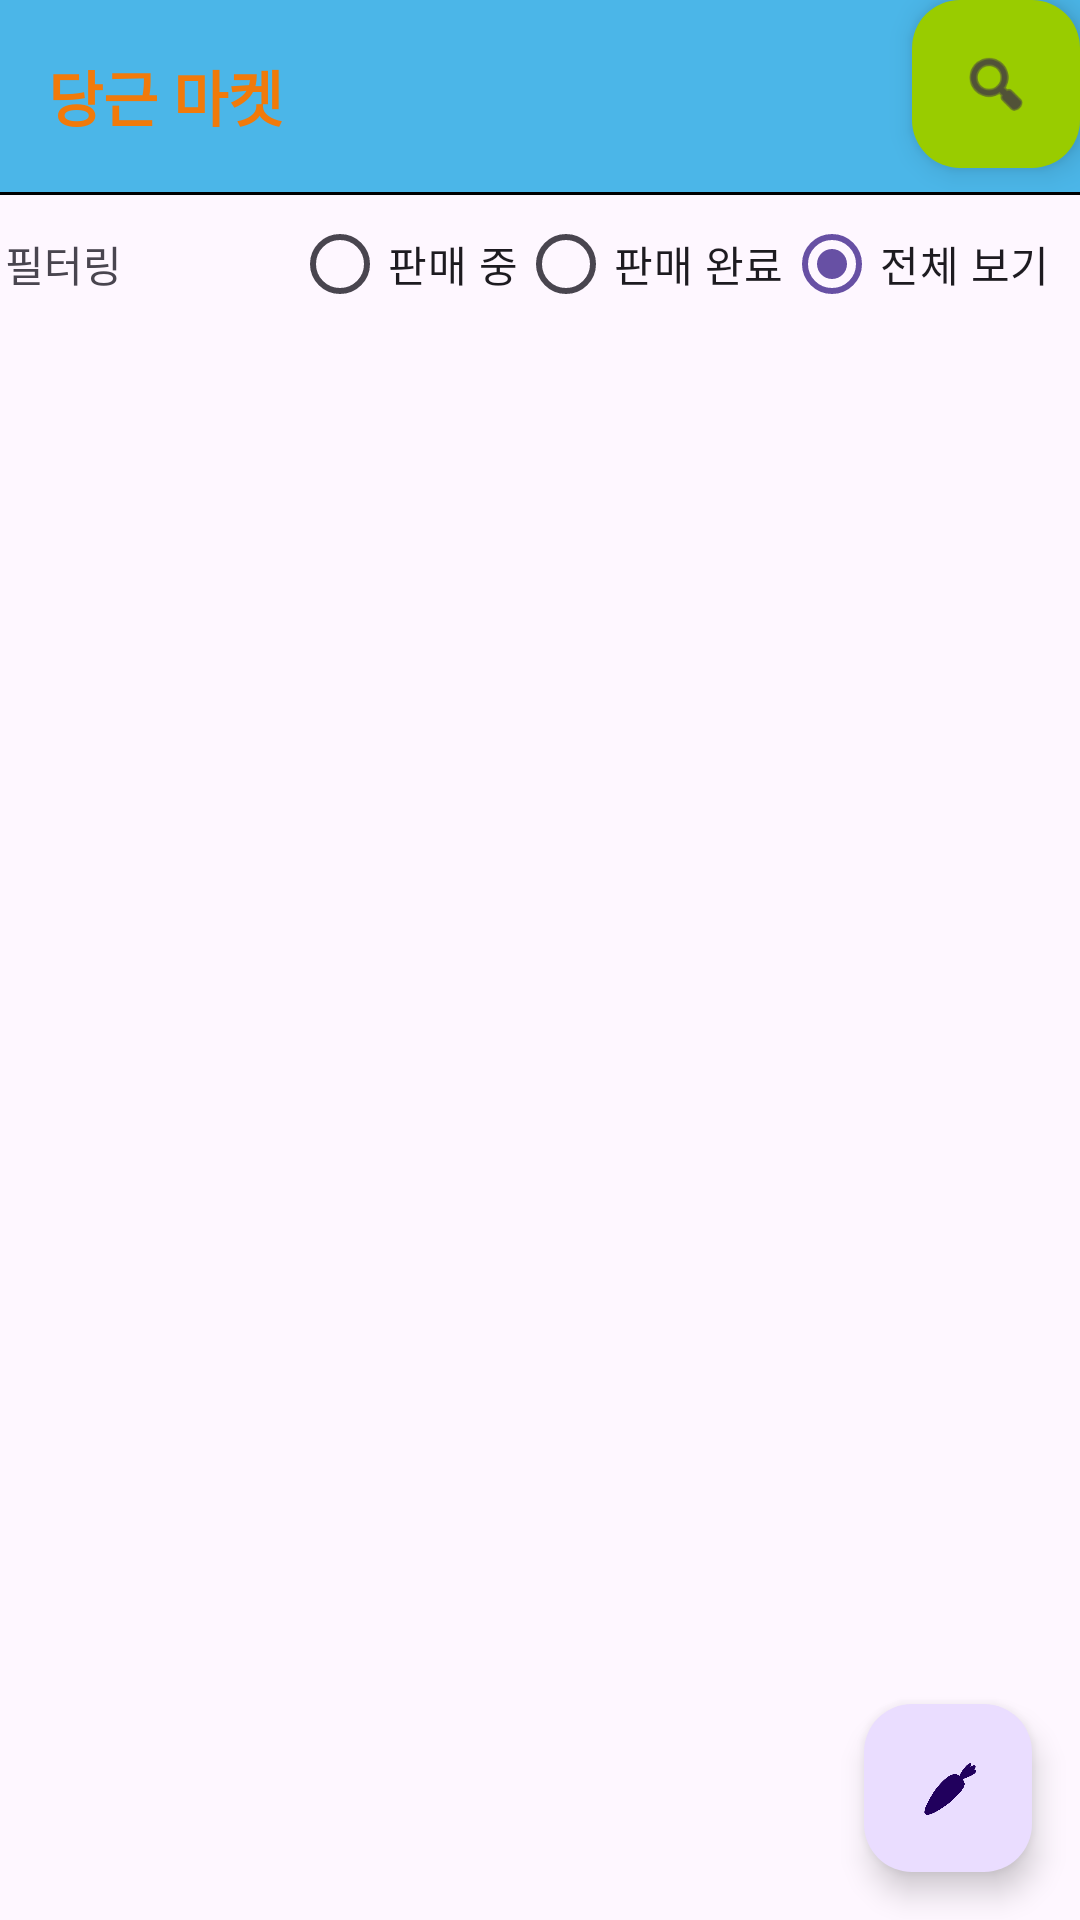

Icon click points for this 1080 × 1920 phone screenshot, format [x,y]:
carrot: [948,1788]
search: [996,84]
